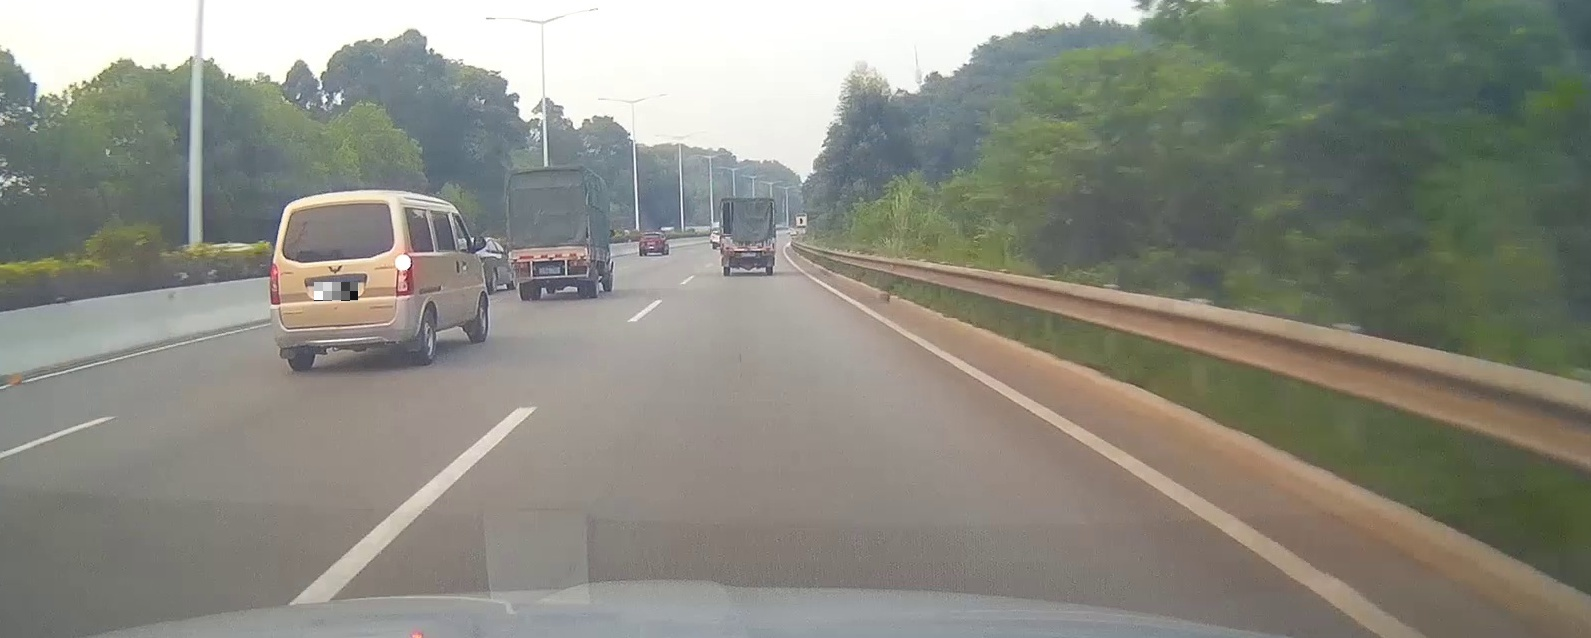L_light: (269, 263, 281, 306), (514, 263, 529, 269), (724, 252, 734, 256)
R_light: (395, 252, 413, 296), (569, 260, 586, 267), (763, 251, 774, 255)
T_light: (327, 205, 344, 210), (547, 253, 556, 258), (744, 247, 753, 250)
day-no: (505, 164, 592, 301), (718, 196, 776, 276)
day-right: (267, 189, 417, 372)
plate_1: (314, 282, 358, 301)
